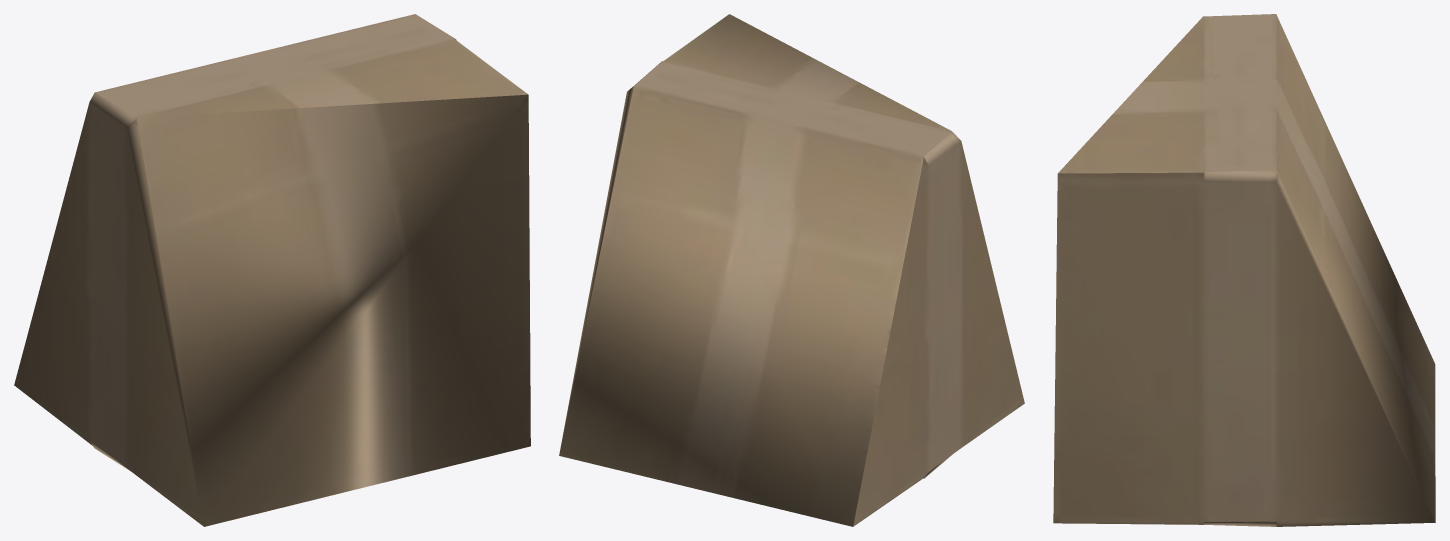
File: carton_b-lo.glb
3 renders of one model, left to right at view 1: azimuth 30°, elevation 25°; view 2: azimuth 150°, elevation 25°; view 3: azimuth 270°, elevation 25°, orthographic. The views are drawn at different scales.
Parts seen in each view (by area): view 1: body; view 2: body; view 3: body.
Part boxes in pixels (left/top/right/bottom): body: left=14, top=14, right=530, bottom=526; body: left=559, top=14, right=1024, bottom=526; body: left=1053, top=14, right=1435, bottom=526.
Size of the model in its own units: 0.5098 by 0.5196 by 0.5062.
Materials: 1 (1 with a texture image).
